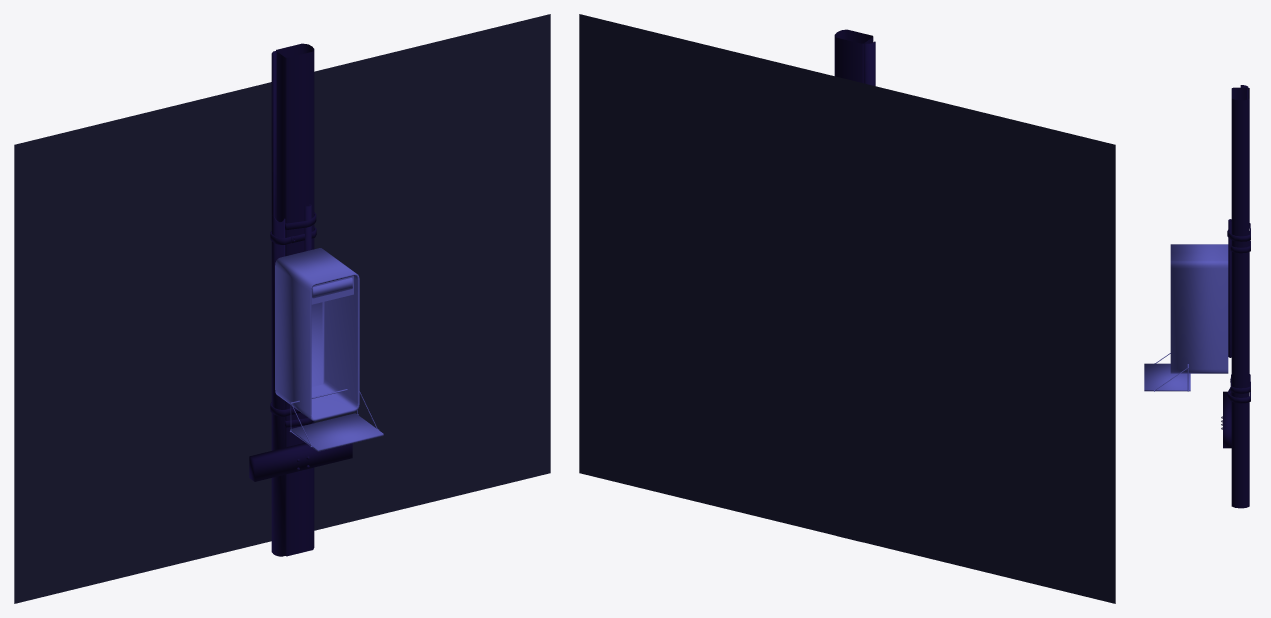
The model's file is Booth_low.fbx.
3 renders of one model, left to right at view 1: azimuth 30°, elevation 25°; view 2: azimuth 150°, elevation 25°; view 3: azimuth 270°, elevation 25°, orthographic. The views are drawn at different scales.
Visible parts, largest first — view 1: Plane001_low, Box001_low, Box003_low, Box004_low, Box005_low, Box002_low; view 2: Plane001_low, Box003_low; view 3: Box001_low, Box003_low, Box002_low, Box006_low, Box005_low, Object001H_low, Object002H_low.
Part boxes in pixels (bbox=[...]): Plane001_low: bbox=[14, 14, 550, 603]; Box001_low: bbox=[275, 248, 359, 421]; Box003_low: bbox=[276, 43, 314, 556]; Box004_low: bbox=[271, 51, 285, 556]; Box005_low: bbox=[249, 442, 352, 481]; Box002_low: bbox=[290, 413, 383, 451]; Plane001_low: bbox=[579, 14, 1115, 603]; Box003_low: bbox=[834, 29, 873, 541]; Box001_low: bbox=[1170, 244, 1228, 373]; Box003_low: bbox=[1231, 87, 1249, 508]; Box002_low: bbox=[1144, 363, 1190, 391]; Box006_low: bbox=[1228, 219, 1231, 357]; Box005_low: bbox=[1223, 391, 1231, 448]; Object001H_low: bbox=[1227, 223, 1250, 403]; Object002H_low: bbox=[1230, 240, 1250, 393].
Size of the model in its own units: 139488 by 123931 by 30855.
